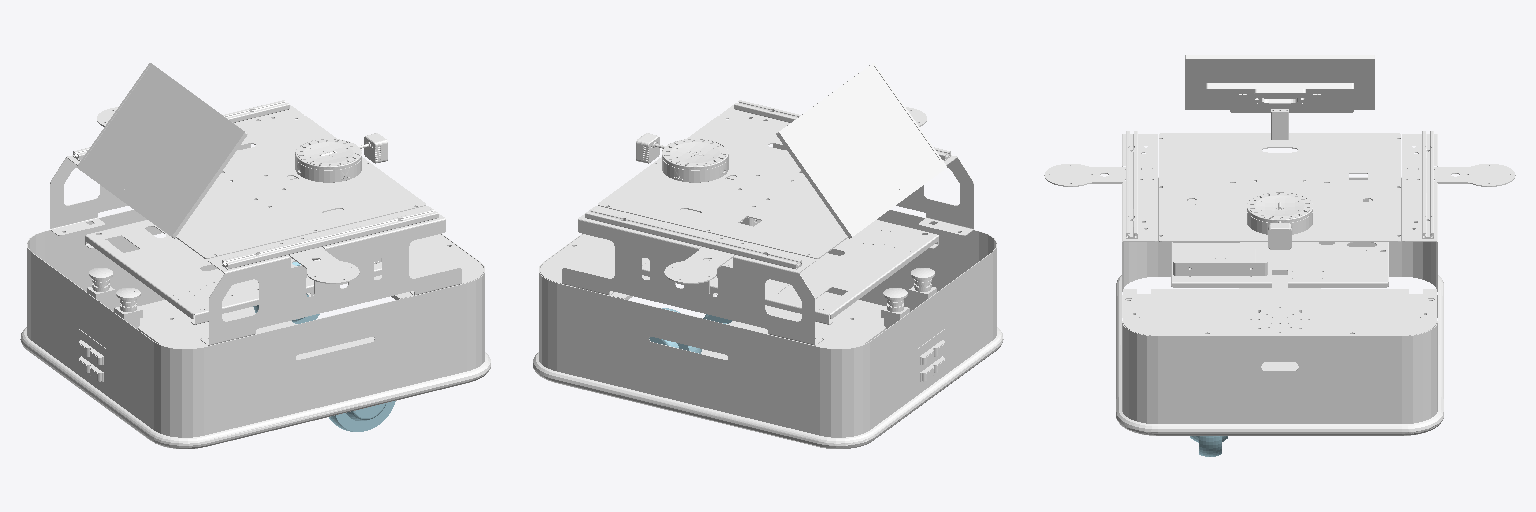
URDF robot description (lucsys_lsr100):
<?xml version="1.0" encoding="utf-8"?>
<robot name="lucsys_lsr100">
  <link name="base_link">
    <inertial>
      <origin xyz="-0.0251070620224986 0.00614048061720733 0.0609796911194103" rpy="0 0 0" />
      <mass value="3.04966217910594" />
      <inertia ixx="0.0170838543964428" ixy="8.97603896378E-06" ixz="-0.000103914094165596" iyy="0.022263579823766" iyz="-1.53816933043532E-07" izz="0.0374090687091319" />
    </inertial>
    <visual>
      <origin xyz="0 0 0" rpy="0 0 0" />
      <geometry>
        <mesh filename="package://lucsys_lsr100_description/meshes/lsr100/base_link.STL" />
      </geometry>
      <material name="lucsys_material_0">
        <color rgba="1 1 1 1" />
      </material>
    </visual>
    <collision>
      <origin xyz="0 0 0" rpy="0 0 0" />
      <geometry>
        <mesh filename="package://lucsys_lsr100_description/meshes/lsr100/base_link.STL" />
      </geometry>
    </collision>
  </link>
  <link name="camera_link">
    <inertial>
      <origin xyz="5.09861291242419E-08 -3.47825186031378E-07 1.07581484304342E-07" rpy="0 0 0" />
      <mass value="0.0559842504443458" />
      <inertia ixx="0.000130810956607069" ixy="1.20255882163315E-07" ixz="1.62335432754277E-06" iyy="1.91148632550972E-05" iyz="-2.80018266441135E-08" izz="0.000131387466610814" />
    </inertial>
    <visual>
      <origin xyz="0 0 0" rpy="0 0 0" />
      <geometry>
        <mesh filename="package://lucsys_lsr100_description/meshes/lsr100/camera_link.STL" />
      </geometry>
      <material name="lucsys_material_1">
        <color rgba="1 1 1 1" />
      </material>
    </visual>
    <collision>
      <origin xyz="0 0 0" rpy="0 0 0" />
      <geometry>
        <mesh filename="package://lucsys_lsr100_description/meshes/lsr100/camera_link.STL" />
      </geometry>
    </collision>
  </link>
  <joint name="camera_joint" type="fixed">
    <origin xyz="0.168159832813867 7.79999967115969E-05 0.186704" rpy="0 0 0" />
    <parent link="base_link" />
    <child link="camera_link" />
    <axis xyz="0 0 0" />
  </joint>
  <link name="laser_link">
    <inertial>
      <origin xyz="0.0025063031131769 -4.56584106021334E-06 -0.0193246896050287" rpy="0 0 0" />
      <mass value="0.0374307357771753" />
      <inertia ixx="2.80476450261731E-05" ixy="-2.19900342508599E-09" ixz="1.07118438627127E-06" iyy="3.36164872401846E-05" iyz="6.83963621545873E-10" izz="4.50845485902709E-05" />
    </inertial>
    <visual>
      <origin xyz="0 0 0" rpy="0 0 0" />
      <geometry>
        <mesh filename="package://lucsys_lsr100_description/meshes/lsr100/laser.STL" />
      </geometry>
      <material name="lucsys_material_2">
        <color rgba="0.376470588235294 0.376470588235294 0.376470588235294 1" />
      </material>
    </visual>
    <collision>
      <origin xyz="0 0 0" rpy="0 0 0" />
      <geometry>
        <mesh filename="package://lucsys_lsr100_description/meshes/lsr100/laser.STL" />
      </geometry>
    </collision>
  </link>
  <joint name="laser_joint" type="fixed">
    <origin xyz="0.156198832813867 0 0.118431525059384" rpy="0 0 3.14159265358979" />
    <parent link="base_link" />
    <child link="laser_link" />
    <axis xyz="0 0 0" />
  </joint>
  <link name="lf_wheel_link">
    <inertial>
      <origin xyz="-5.20829168682013E-09 -4.4527808014394E-07 2.77555756156289E-17" rpy="0 0 0" />
      <mass value="0.595489655285518" />
      <inertia ixx="0.000649719212067496" ixy="-1.0192314240505E-10" ixz="-4.88390115836518E-23" iyy="0.001048172608967" iyz="-1.49485089493572E-19" izz="0.000649697264639401" />
    </inertial>
    <visual>
      <origin xyz="0 0 0" rpy="0 0 0" />
      <geometry>
        <mesh filename="package://lucsys_lsr100_description/meshes/lsr100/lf_wheel_link.STL" />
      </geometry>
      <material name="lucsys_material_3">
        <color rgba="0.741176470588235 0.901960784313726 0.956862745098039 1" />
      </material>
    </visual>
    <collision>
      <origin xyz="0 0 0" rpy="0 0 0" />
      <geometry>
        <mesh filename="package://lucsys_lsr100_description/meshes/lsr100/lf_wheel_link.STL" />
      </geometry>
    </collision>
  </link>
  <joint name="lf_wheel_joint" type="continuous">
    <origin xyz="0.130698832813868 0.115083999996712 0.035" rpy="0 0 0" />
    <parent link="base_link" />
    <child link="lf_wheel_link" />
    <axis xyz="0 1 0" />
  </joint>
  <link name="rf_wheel_link">
    <inertial>
      <origin xyz="-5.20829163130898E-09 4.45278080227207E-07 -2.77555756156289E-17" rpy="0 0 0" />
      <mass value="0.595489655285517" />
      <inertia ixx="0.000649719212067496" ixy="1.01923148006776E-10" ixz="4.28254399334126E-23" iyy="0.001048172608967" iyz="-1.50279014522297E-19" izz="0.000649697264639401" />
    </inertial>
    <visual>
      <origin xyz="0 0 0" rpy="0 0 0" />
      <geometry>
        <mesh filename="package://lucsys_lsr100_description/meshes/lsr100/rf_wheel_link.STL" />
      </geometry>
      <material name="lucsys_material_4">
        <color rgba="0.741176470588235 0.901960784313726 0.956862745098039 1" />
      </material>
    </visual>
    <collision>
      <origin xyz="0 0 0" rpy="0 0 0" />
      <geometry>
        <mesh filename="package://lucsys_lsr100_description/meshes/lsr100/rf_wheel_link.STL" />
      </geometry>
    </collision>
  </link>
  <joint name="rf_wheel_joint" type="continuous">
    <origin xyz="0.130698832813866 -0.115084000003288 0.035" rpy="0 0 0" />
    <parent link="base_link" />
    <child link="rf_wheel_link" />
    <axis xyz="0 -1 0" />
  </joint>
  <link name="recharge_link">
    <inertial>
      <origin xyz="0.00583105178285179 -0.0240208454934916 0.0444304401244179" rpy="0 0 0" />
      <mass value="0.00411313318852136" />
      <inertia ixx="2.15892449167341E-06" ixy="-5.31277368114172E-10" ixz="2.98032018347492E-10" iyy="1.08631853692317E-07" iyz="-5.53081160674339E-10" izz="2.0879889233084E-06" />
    </inertial>
    <visual>
      <origin xyz="0 0 0" rpy="0 0 0" />
      <geometry>
        <mesh filename="package://lucsys_lsr100_description/meshes/lsr100/recharge_link.STL" />
      </geometry>
      <material name="lucsys_material_5">
        <color rgba="0.741176470588235 0.901960784313726 0.956862745098039 1" />
      </material>
    </visual>
    <collision>
      <origin xyz="0 0 0" rpy="0 0 0" />
      <geometry>
        <mesh filename="package://lucsys_lsr100_description/meshes/lsr100/recharge_link.STL" />
      </geometry>
    </collision>
  </link>
  <joint name="recharge_joint" type="fixed">
    <origin xyz="-0.194551167186133 0 0.06025" rpy="0 0 3.14159265358979" />
    <parent link="base_link" />
    <child link="recharge_link" />
    <axis xyz="0 0 0" />
  </joint>
</robot>

--- Render facts (derived) ---
The picture shows the robot from 3 angles, left to right: view 1: azimuth 30°, elevation 25°; view 2: azimuth 150°, elevation 25°; view 3: azimuth 270°, elevation 25°; orthographic projection.
Model lucsys_lsr100 with 6 links and 5 joints (2 continuous, 3 fixed), rooted at base_link, posed every joint at zero.
Visible links, largest first — view 1: base_link, rf_wheel_link; view 2: base_link; view 3: base_link, rf_wheel_link.
Link boxes in pixels (<box>): base_link: <box>20,63,490,448</box>; rf_wheel_link: <box>329,401,395,431</box>; base_link: <box>533,63,1003,448</box>; base_link: <box>1044,55,1515,435</box>; rf_wheel_link: <box>1190,436,1227,456</box>.
Size in the robot's own frame: 0.64 by 0.7764 by 0.6124 metres.
3 mesh visuals loaded from 6 distinct referenced files (3 binary STL); not drawn: 3 (reference not matched to a file when rendering).
